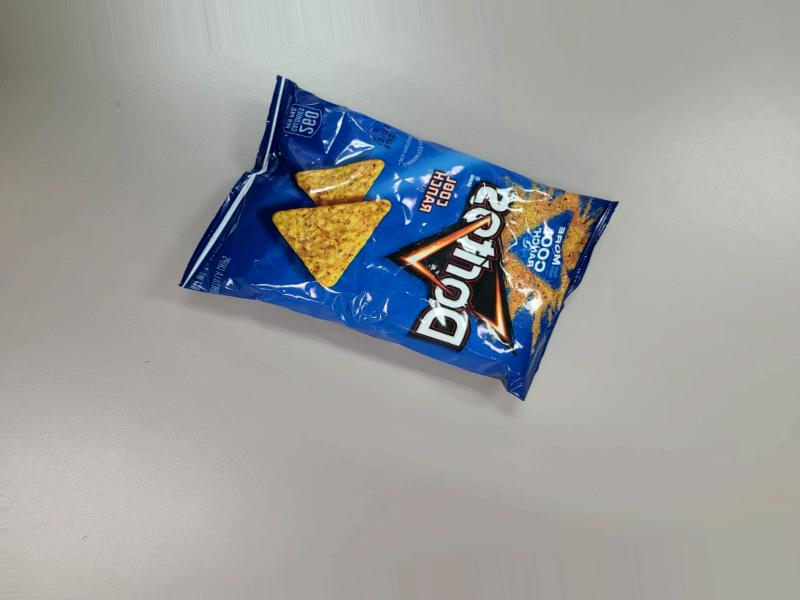doritos: (171, 104, 630, 411)
